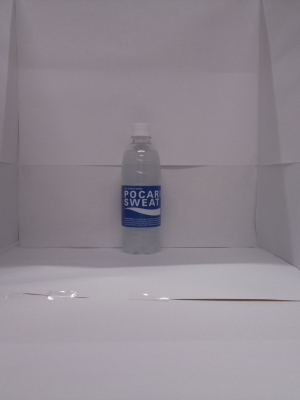ポカリスエット: (112, 118, 173, 262)
